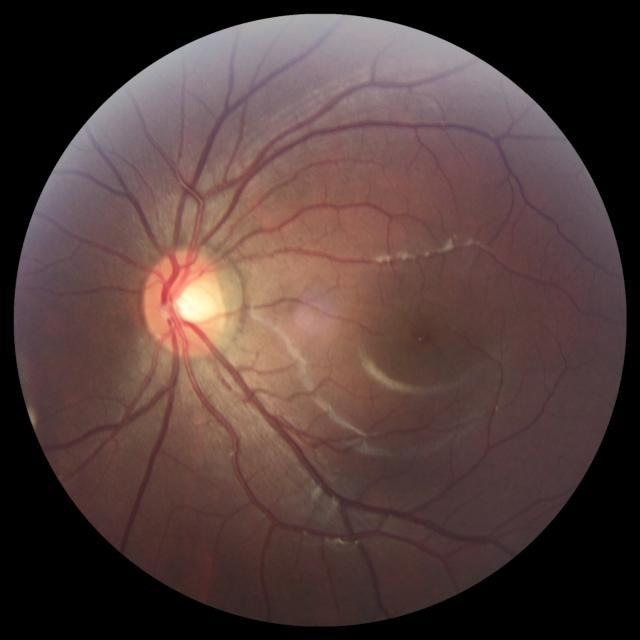OC: (171, 281, 211, 324)
OD: (142, 248, 226, 355)
